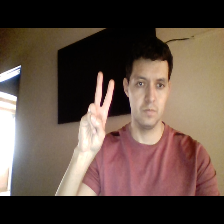KP: (76, 65, 118, 158)
